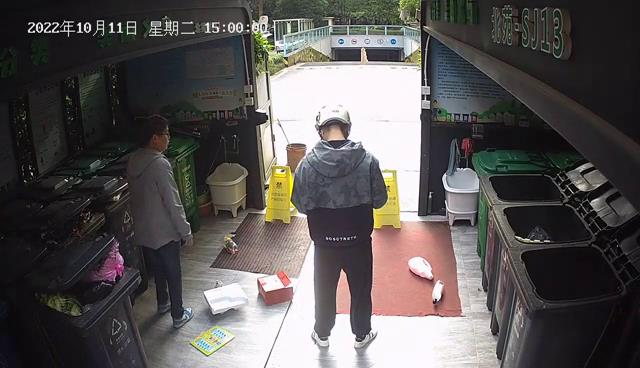paomozhipin: (202, 281, 249, 315)
person: (290, 103, 389, 350), (125, 114, 195, 328)
suliaozhipin: (407, 255, 434, 281), (222, 231, 239, 255), (431, 279, 446, 305)
zhizhipin: (189, 323, 236, 358), (256, 270, 295, 306)
